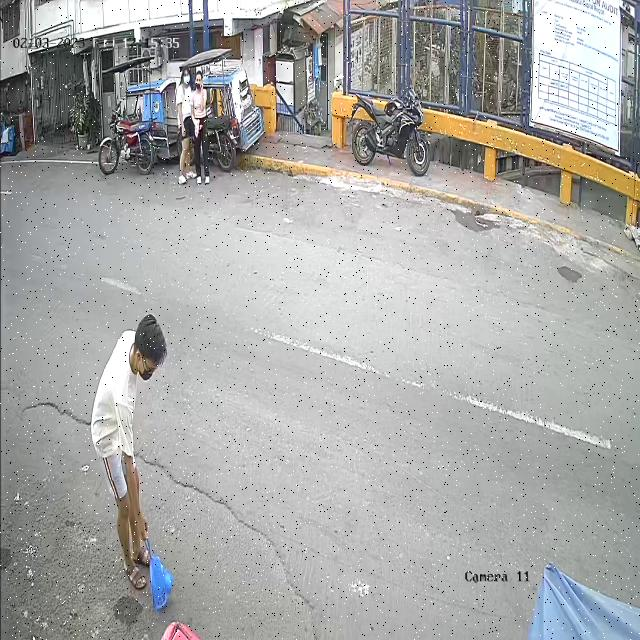human: (91, 316, 172, 611)
trash: (141, 526, 174, 614)
